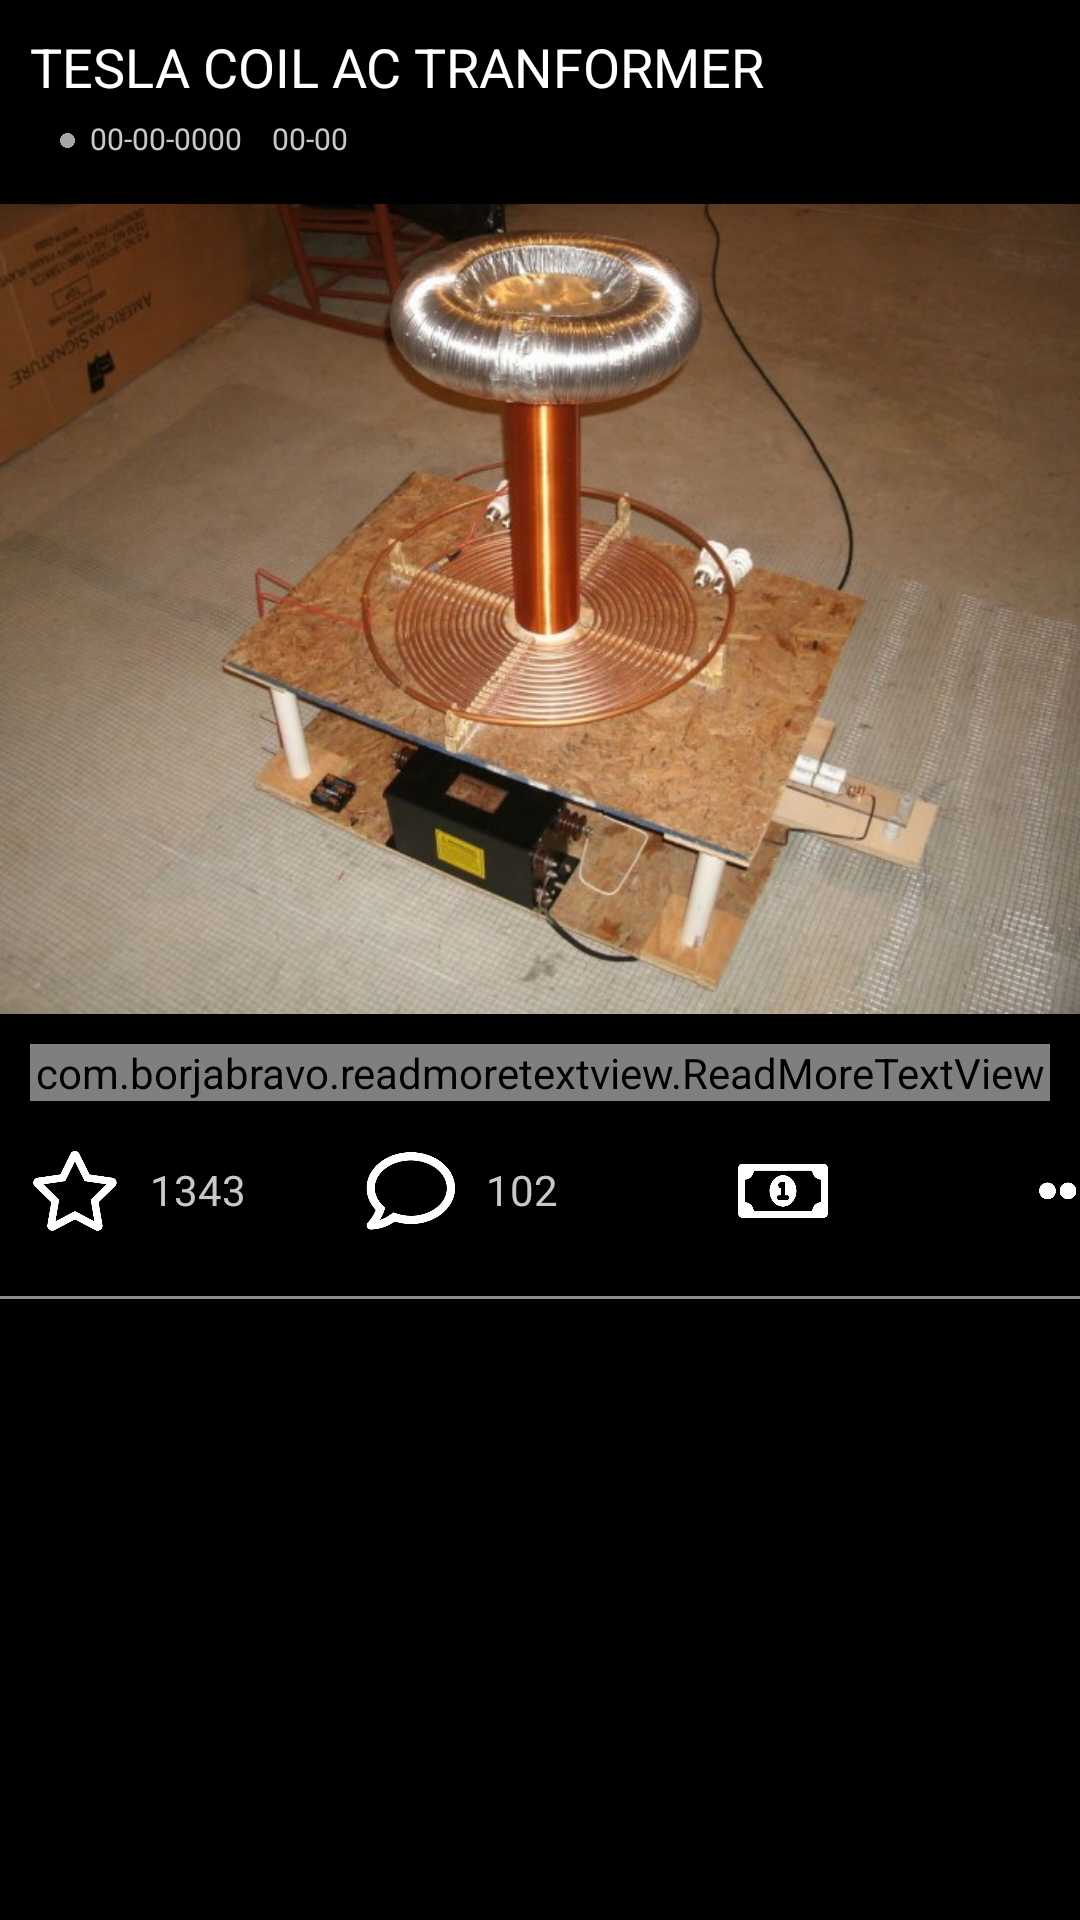

Screen size 1080×1920. Icon name, then its box in pixels as box=[x1, y1, x2, y2]:
commentbtnicon: box=[366, 1152, 455, 1230]
likebtn: box=[33, 1151, 117, 1231]
priceiconbtn: box=[738, 1164, 828, 1218]
